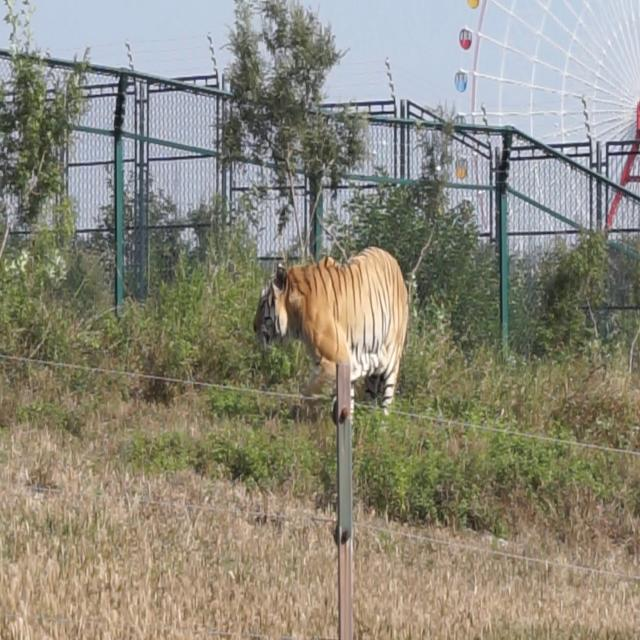Tiger: (247, 233, 446, 430)
